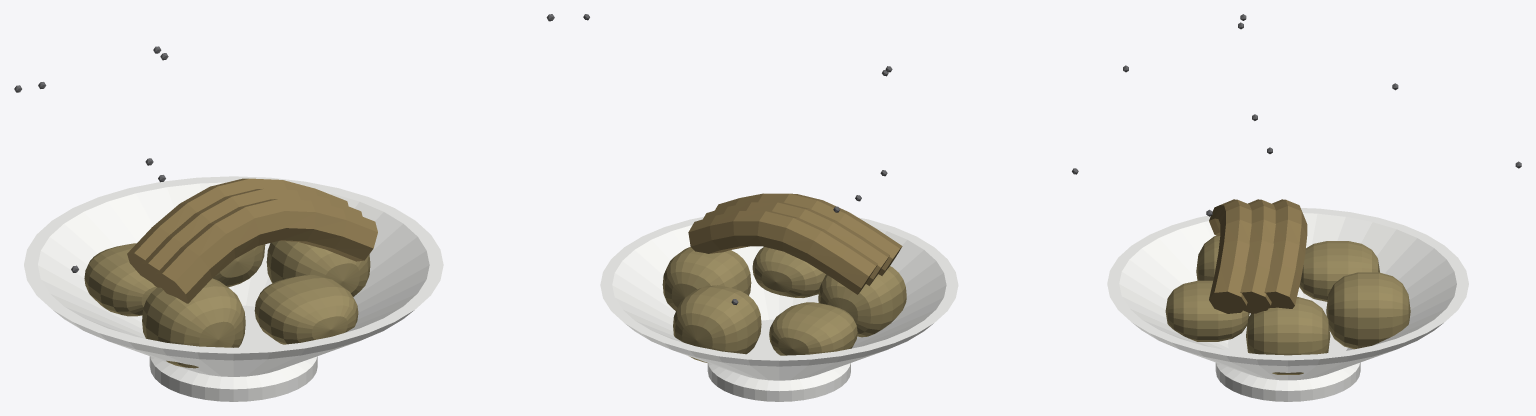
Rendered from fruteira_podre.glb.
3 renders of one model, left to right at view 1: azimuth 30°, elevation 25°; view 2: azimuth 150°, elevation 25°; view 3: azimuth 270°, elevation 25°, orthographic. The views are drawn at different scales.
Parts seen in each view (by area): view 1: fruteira_podre_louca, fruteira_podre_fruta_podre, fruteira_podre_banana_podre; view 2: fruteira_podre_louca, fruteira_podre_fruta_podre, fruteira_podre_banana_podre; view 3: fruteira_podre_louca, fruteira_podre_fruta_podre, fruteira_podre_banana_podre.
Part boxes in pixels (x1,y1,x2,y2): fruteira_podre_louca: (24, 176, 443, 401); fruteira_podre_fruta_podre: (84, 241, 370, 368); fruteira_podre_banana_podre: (127, 178, 377, 303); fruteira_podre_louca: (600, 217, 958, 401); fruteira_podre_fruta_podre: (662, 247, 906, 362); fruteira_podre_banana_podre: (688, 193, 902, 294); fruteira_podre_louca: (1107, 208, 1468, 401); fruteira_podre_fruta_podre: (1165, 235, 1410, 374); fruteira_podre_banana_podre: (1209, 199, 1307, 313).
Size of the model in its own units: 0.4375 by 0.2867 by 0.3437.
